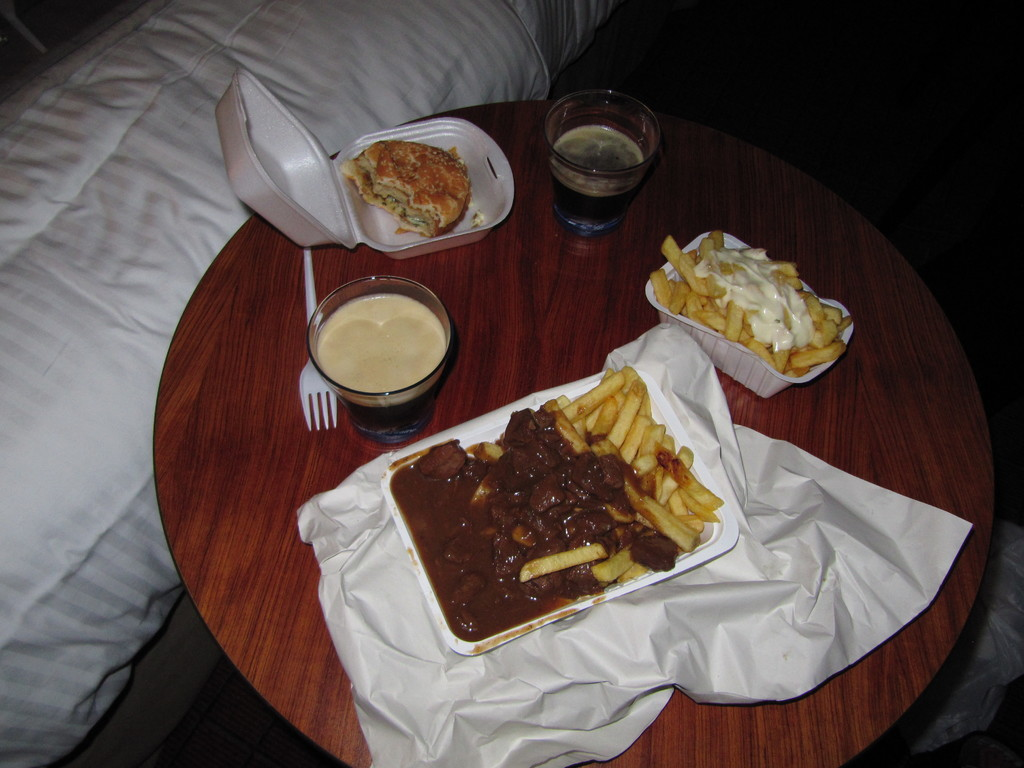French fries: (382, 358, 724, 645), (637, 245, 857, 389)
